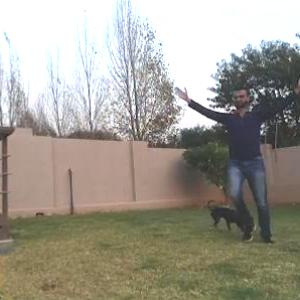takeoff: (177, 81, 299, 250)
